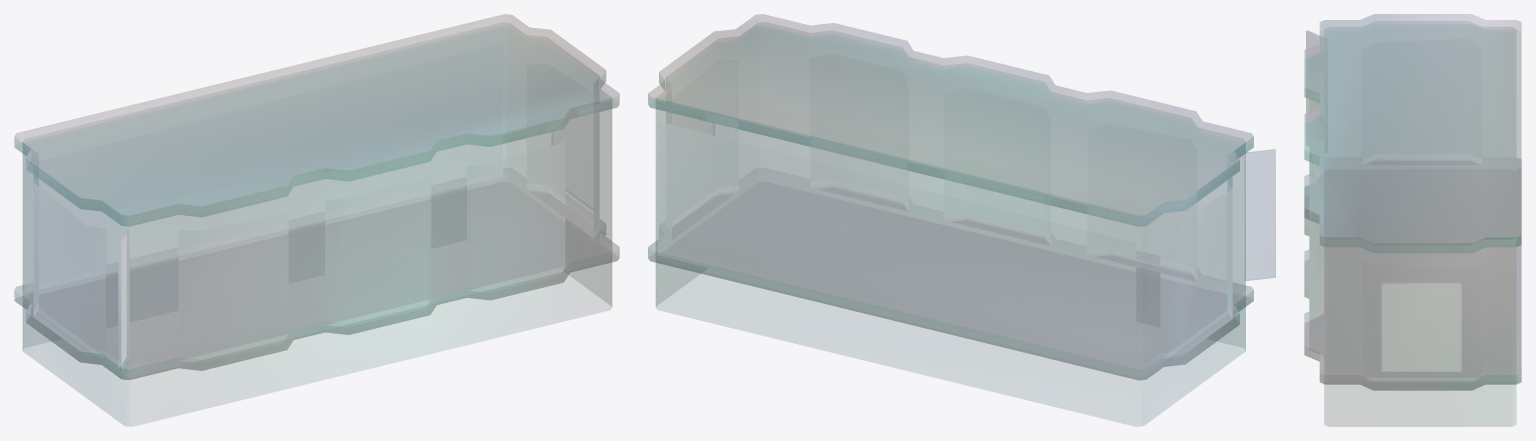
Rendered from CEN_4783.preview.glb.
The picture shows the model from 3 angles, left to right: view 1: azimuth 30°, elevation 25°; view 2: azimuth 150°, elevation 25°; view 3: azimuth 270°, elevation 25°; orthographic projection. The views are drawn at different scales.
Visible parts, largest first — view 1: obj_3280, obj_1c50, obj_c10, obj_1000, obj_2280, obj_1580, obj_3840, obj_3ad0; view 2: obj_3280, obj_1c50, obj_1580, obj_c10, obj_2280, obj_3840, obj_3ad0, obj_1000; view 3: obj_3280, obj_1c50, obj_3ad0, obj_3510, obj_c10, obj_1000, obj_1580, obj_2280, obj_3840.
Boxes of the visible parts, x1,y1,x2,y2 form: obj_3280: (15, 14, 618, 379); obj_1c50: (22, 23, 612, 371); obj_c10: (14, 14, 619, 379); obj_1000: (39, 267, 592, 414); obj_2280: (33, 139, 565, 315); obj_1580: (22, 253, 612, 426); obj_3840: (118, 230, 129, 370); obj_3ad0: (121, 232, 128, 367); obj_3280: (648, 14, 1253, 379); obj_1c50: (655, 22, 1245, 371); obj_1580: (655, 253, 1245, 426); obj_c10: (648, 14, 1253, 379); obj_2280: (666, 123, 1232, 316); obj_3840: (1245, 149, 1275, 280); obj_3ad0: (1246, 150, 1275, 280); obj_1000: (672, 267, 1226, 412); obj_3280: (1304, 14, 1521, 389); obj_1c50: (1309, 21, 1516, 382); obj_3ad0: (1306, 32, 1460, 371); obj_3510: (1382, 283, 1461, 371); obj_c10: (1304, 14, 1521, 390); obj_1000: (1362, 378, 1481, 426); obj_1580: (1324, 376, 1516, 426); obj_2280: (1309, 164, 1323, 318); obj_3840: (1306, 30, 1323, 113).
Size of the model in its own units: 132 by 51.33 by 52.76.
